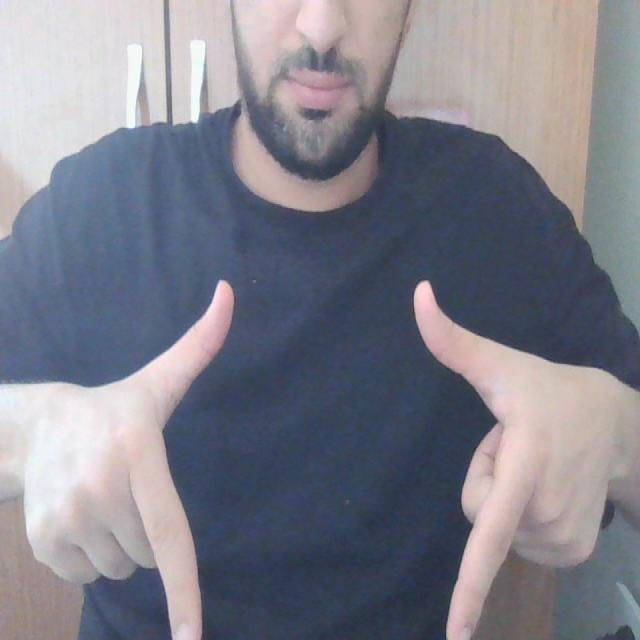Nerede: (113, 273, 551, 640)
